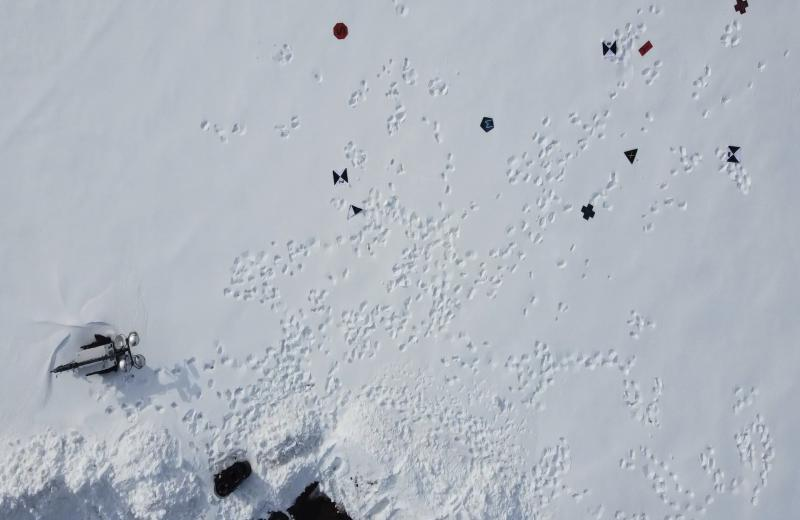Cross: (580, 202, 598, 222), (734, 0, 750, 17)
Octagon: (332, 20, 349, 40)
Pentagon: (480, 116, 494, 134)
Rectangle: (637, 39, 653, 59)
Triangle: (623, 149, 640, 165)
